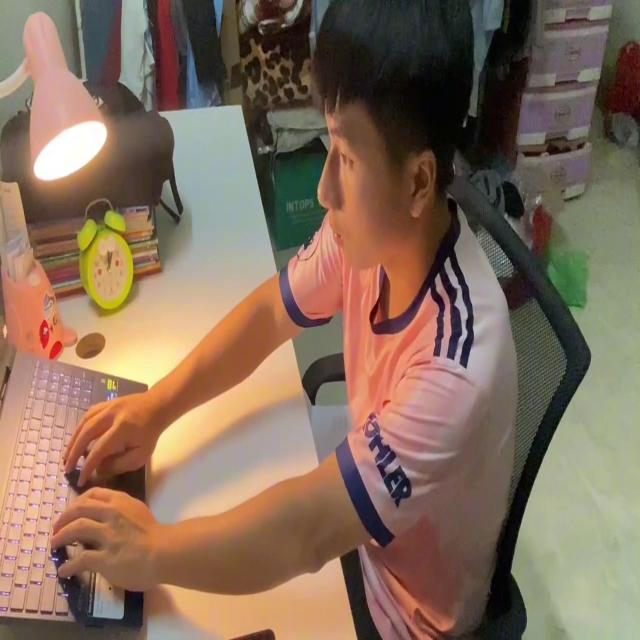book: (306, 389, 352, 473)
laptop: (1, 291, 149, 633)
student: (50, 0, 522, 640)
